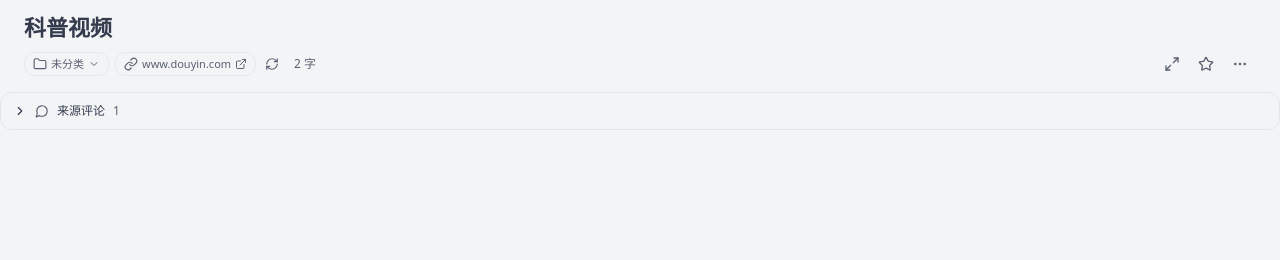
Test: 已有评论默认显示条数并折叠，展开后按纯文本展示
Expected: the text "<script>alert(1)</script> **纯文本**" is not shown
Click the button "来源评论 1".
click(81, 110)  # box [13, 103, 1267, 119]
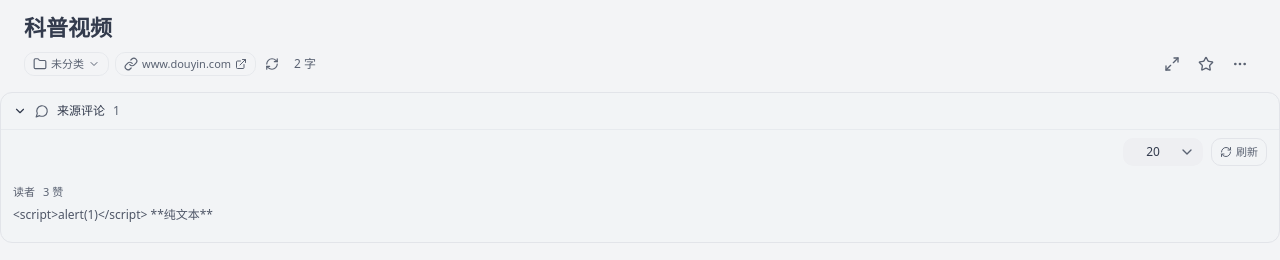
Result: the text "<script>alert(1)</script> **纯文本**" is shown at [13, 206, 213, 222]
